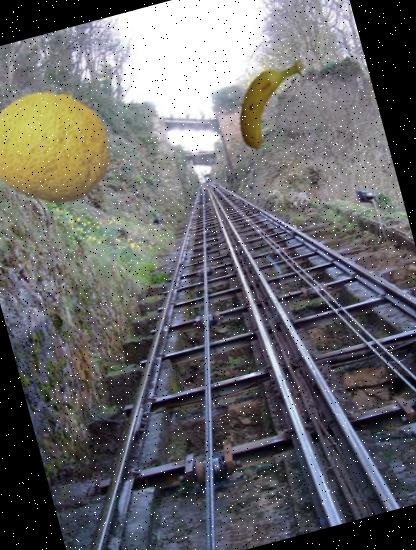Banana: (207, 40, 332, 164)
Cantaloupe: (0, 69, 126, 221)
